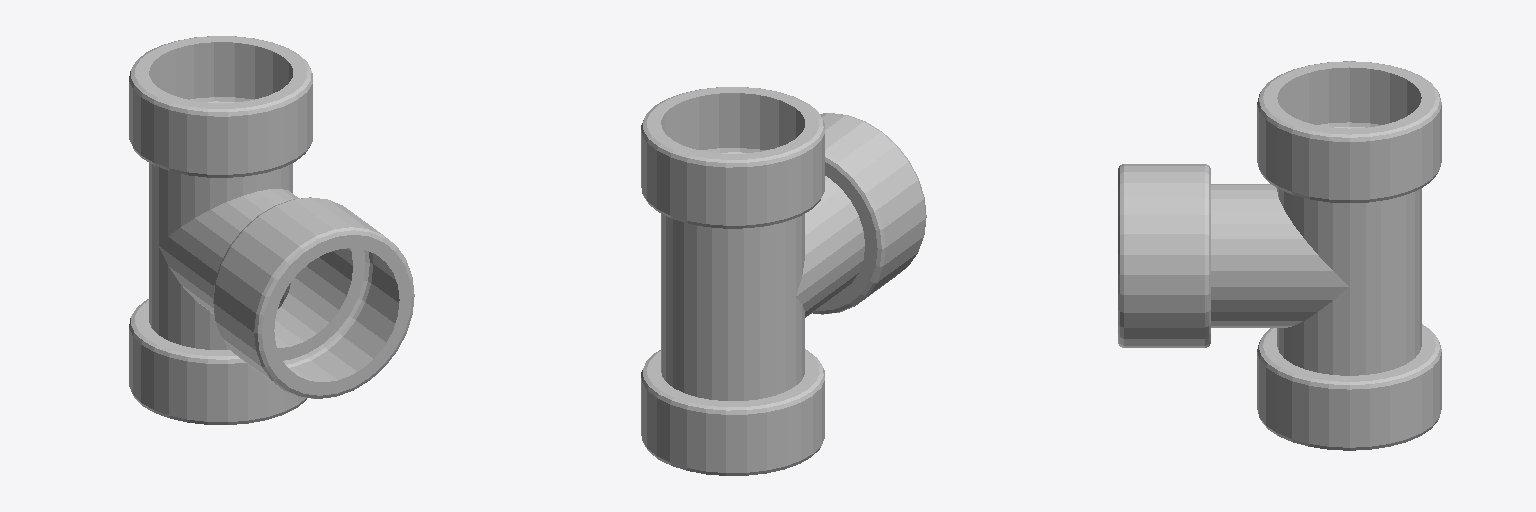
File: T_JUNCTION.obj
The picture shows the model from 3 angles: view 1: azimuth 30°, elevation 25°; view 2: azimuth 150°, elevation 25°; view 3: azimuth 270°, elevation 25°; orthographic projection.
Parts seen in each view (by area): view 1: T_JUNCTION; view 2: T_JUNCTION; view 3: T_JUNCTION.
Part boxes in pixels (x1,y1,x2,y2): T_JUNCTION: (129,36,414,424); T_JUNCTION: (641,87,926,475); T_JUNCTION: (1118,61,1441,450).
Bounding box in the file's own units: 4.06 × 7.66 × 7.11.